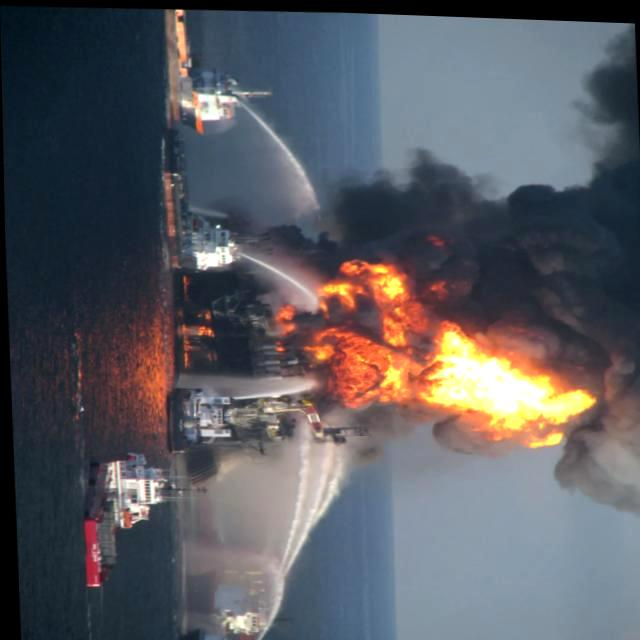fire: (256, 250, 602, 450)
